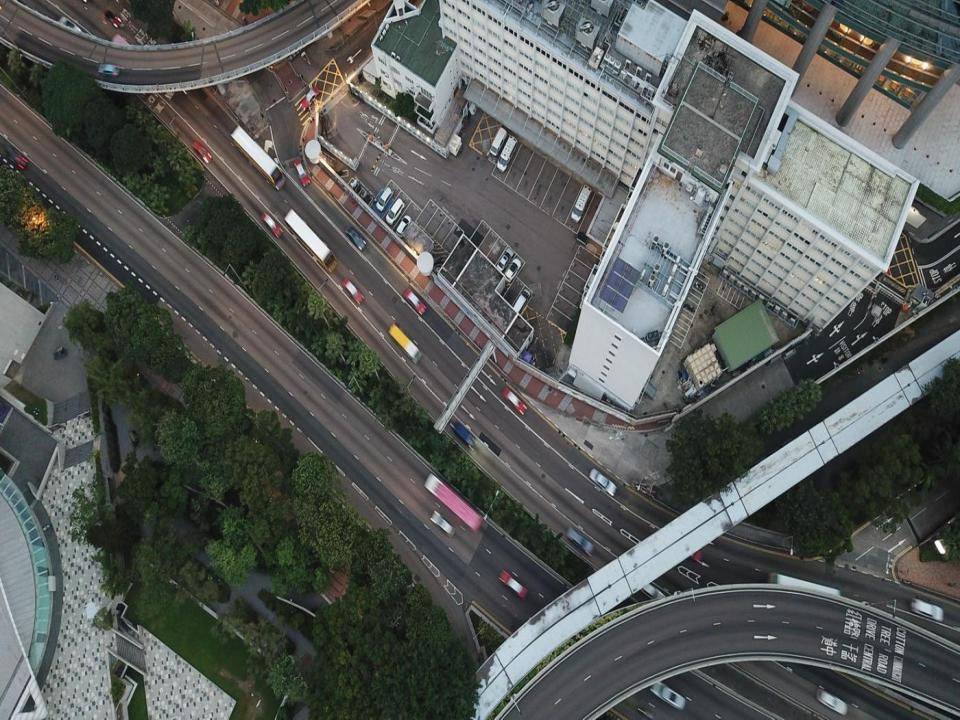bus: (423, 472, 484, 531), (231, 125, 286, 189), (284, 206, 337, 270), (766, 573, 842, 608), (388, 324, 423, 364), (112, 34, 144, 66)
car: (817, 686, 848, 716), (498, 568, 527, 598), (589, 468, 619, 495), (670, 535, 701, 561), (502, 385, 528, 414), (4, 143, 29, 171), (430, 509, 455, 536), (403, 287, 427, 315), (58, 16, 82, 41), (344, 222, 366, 249), (343, 275, 363, 304), (261, 212, 283, 238), (294, 158, 310, 187), (191, 142, 212, 164), (300, 88, 321, 110), (496, 247, 514, 271), (504, 257, 520, 284), (98, 62, 119, 78), (102, 10, 120, 27), (396, 213, 410, 234)
van: (648, 678, 686, 707), (632, 575, 666, 604), (571, 183, 591, 222), (911, 598, 943, 622), (508, 288, 531, 320), (452, 418, 475, 448), (566, 527, 594, 551), (497, 134, 516, 169), (385, 196, 404, 223), (490, 128, 507, 157), (376, 187, 394, 210)
